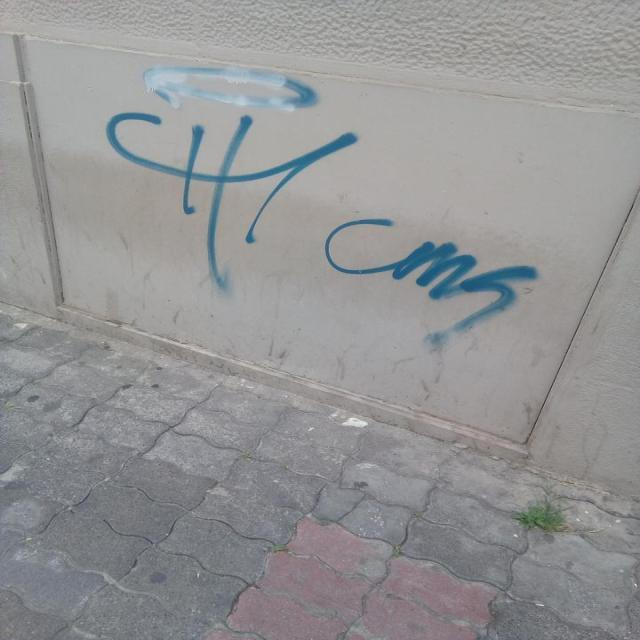nonspitting: (105, 66, 541, 352)
